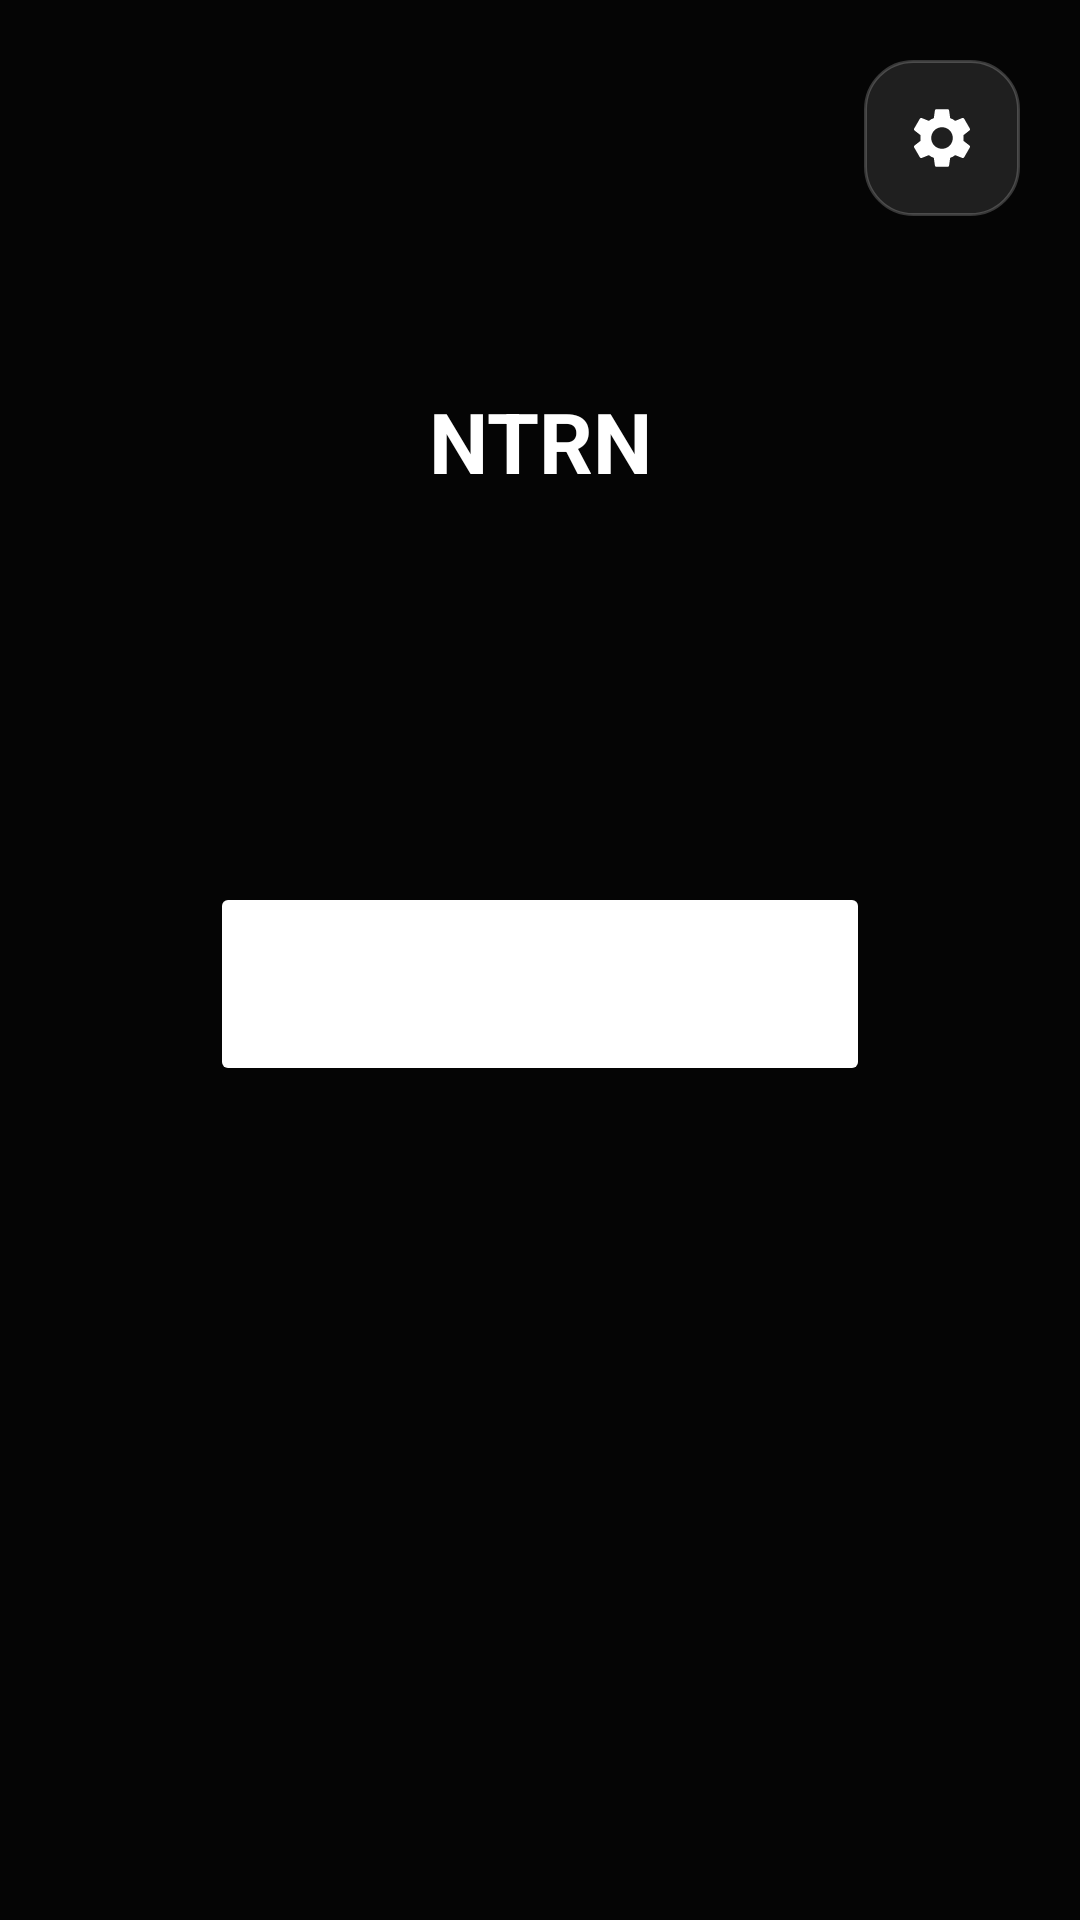

Named icons in this screenshot (1080w x 1920h) and their centers, [x,y]:
settings: [942,138]
